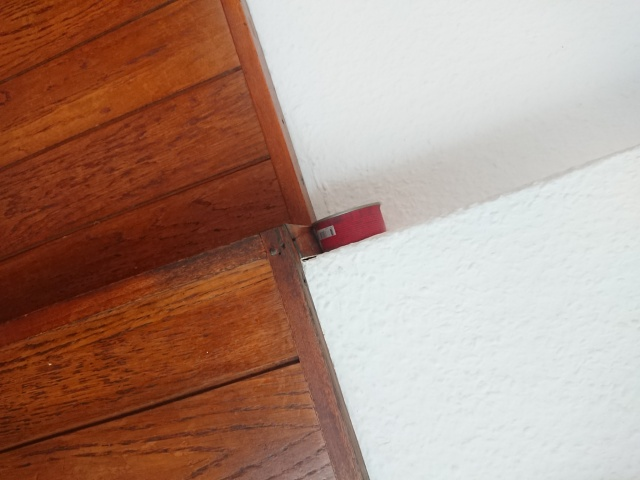Gavrilovic Pork Liver Pate 100g: (308, 199, 390, 255)
